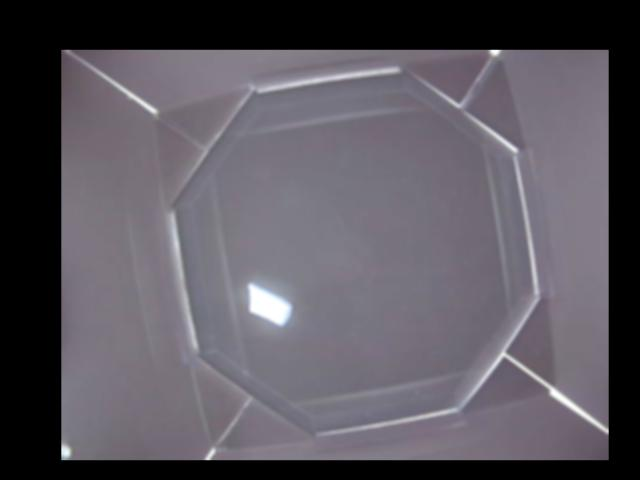China: (240, 278, 293, 325)
